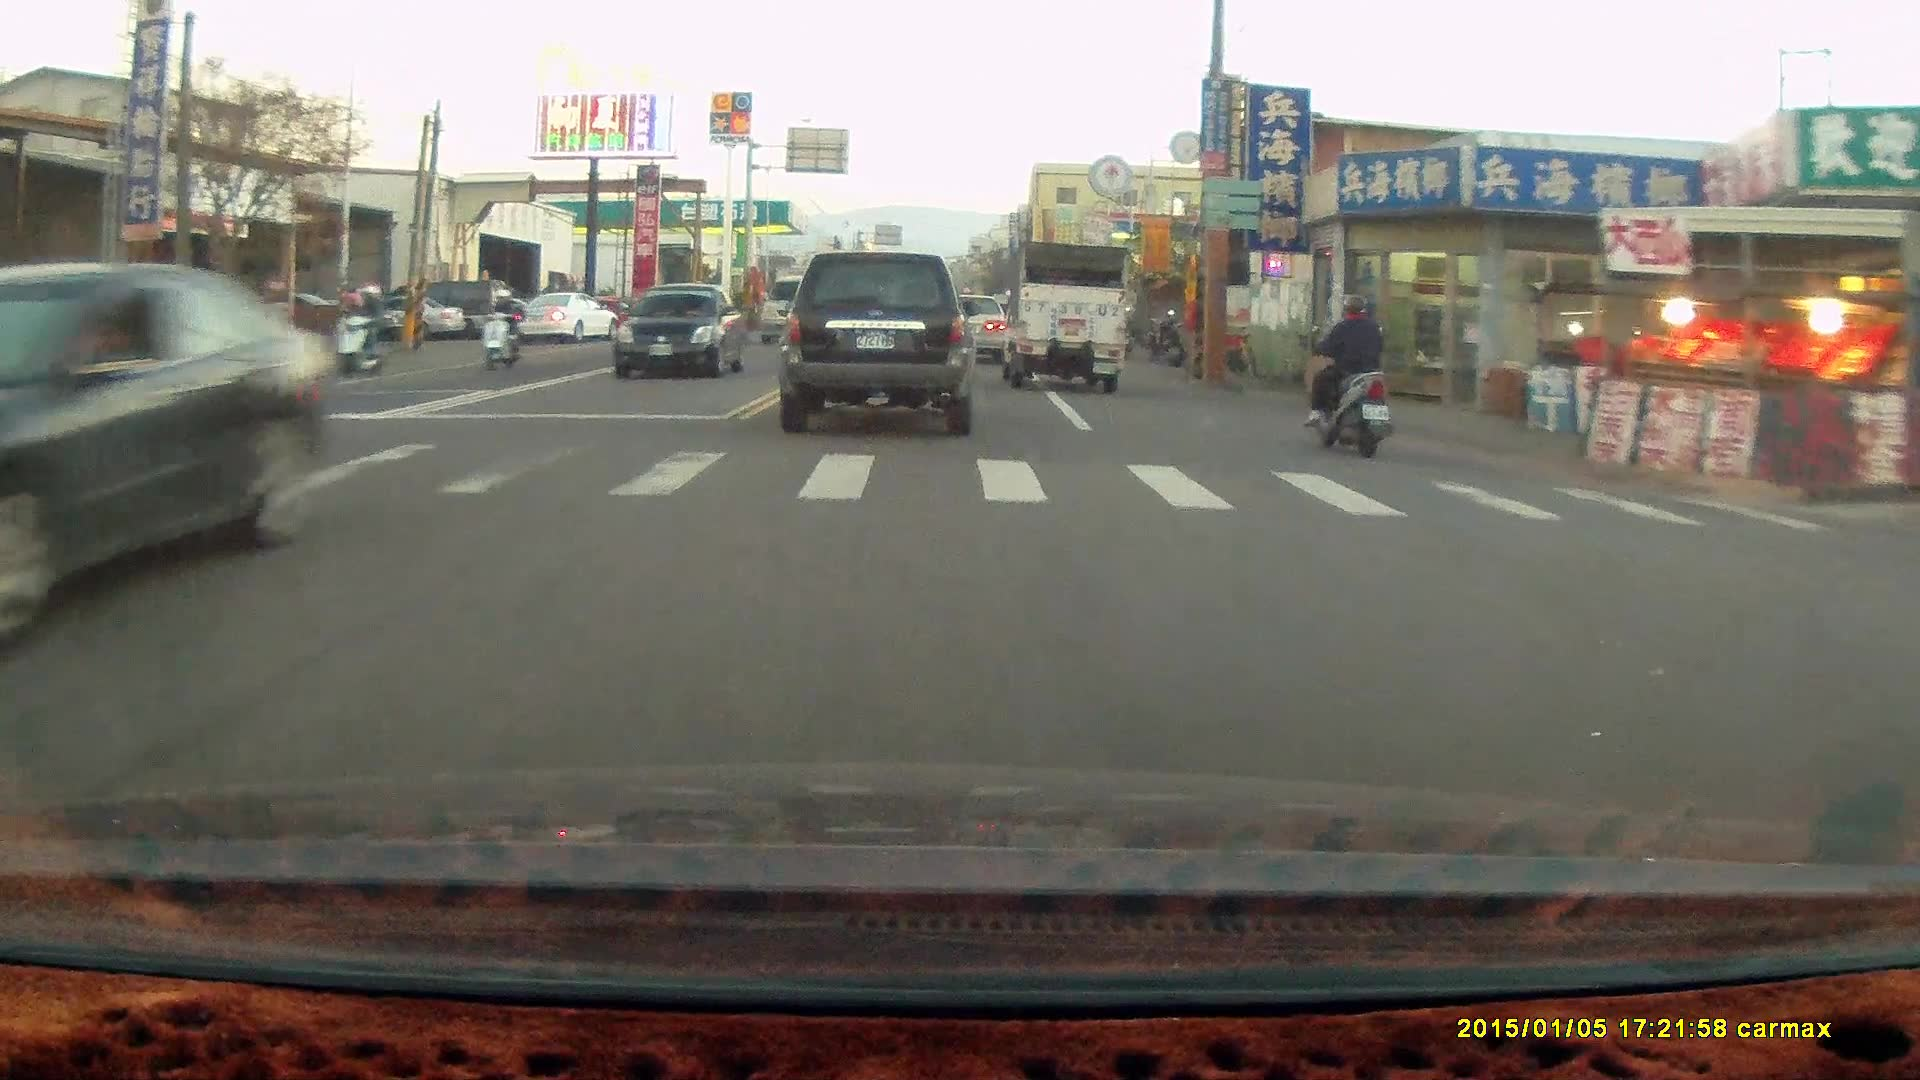rider: (1301, 291, 1393, 456), (326, 283, 395, 381), (482, 283, 528, 366)
vehicle: (1, 262, 325, 646), (772, 249, 984, 436), (996, 239, 1128, 394), (618, 282, 749, 380), (757, 273, 845, 345), (521, 292, 620, 349), (934, 292, 1008, 366)
